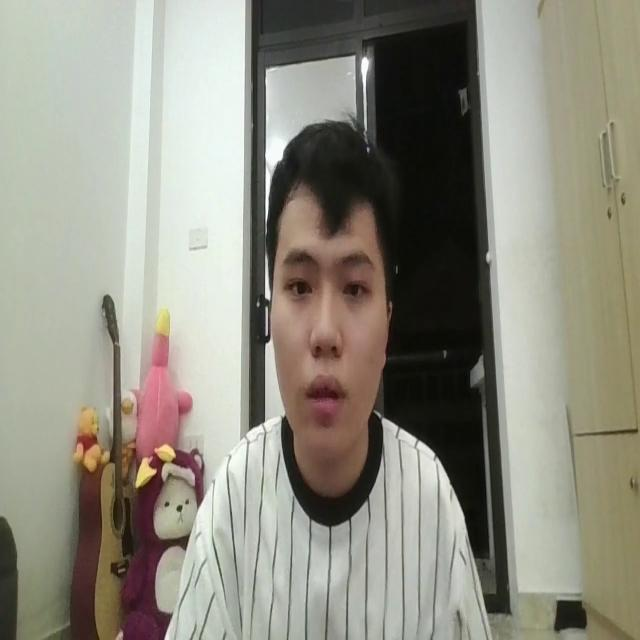student: (185, 114, 485, 640)
